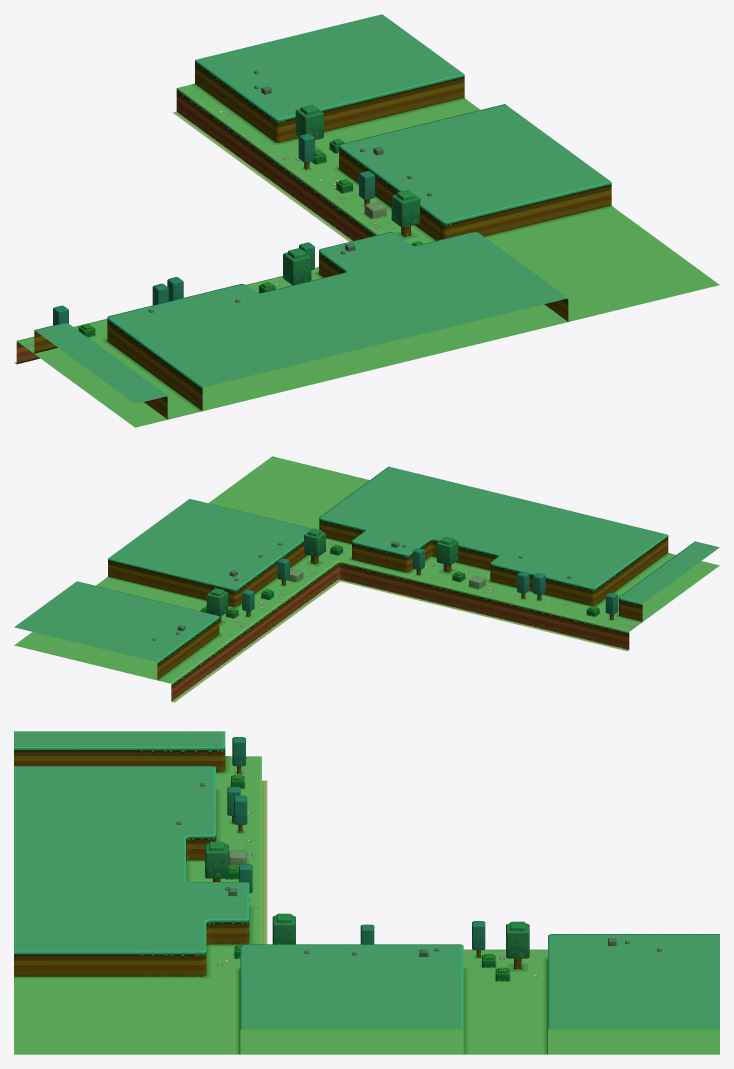
Rendered from C_grass1_out_LU.fbx.
3 views of the same model, one above another, from view 1: azimuth 30°, elevation 25°; view 2: azimuth 150°, elevation 25°; view 3: azimuth 270°, elevation 25° (orthographic). The views are drawn at different scales.
Parts seen in each view (by area): view 1: C_grass1_out_LU; view 2: C_grass1_out_LU; view 3: C_grass1_out_LU.
Part boxes in pixels (left/top/right/bottom): C_grass1_out_LU: left=14, top=14, right=719, bottom=427; C_grass1_out_LU: left=14, top=456, right=719, bottom=702; C_grass1_out_LU: left=14, top=731, right=719, bottom=1054.
Bounding box in the file's own units: 117 × 12.59 × 117.
Materials: 1 (1 with a texture image).
